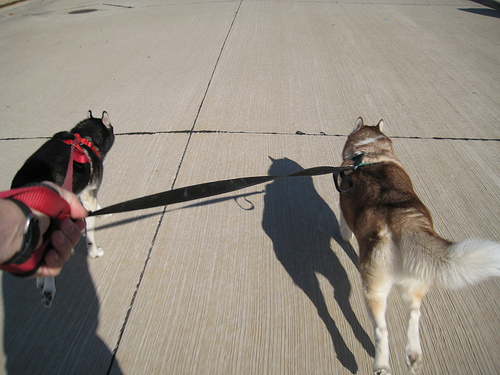dog: (340, 116, 499, 374), (10, 107, 114, 307)
